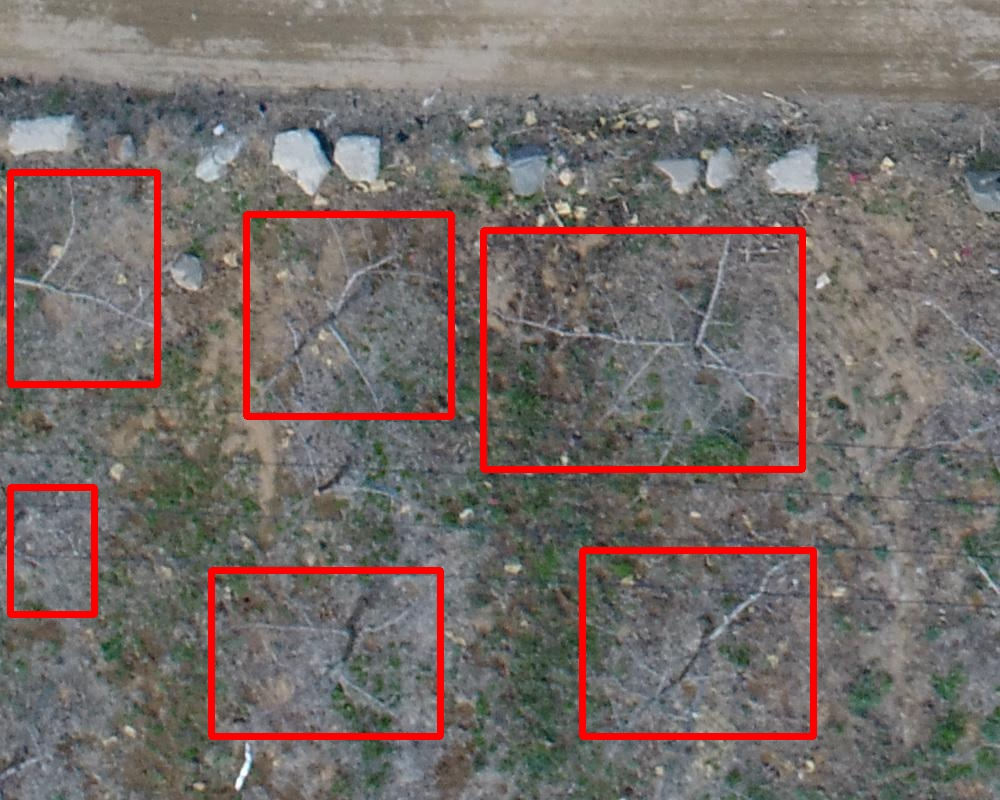apple: (483, 230, 802, 469), (582, 550, 813, 736), (246, 214, 451, 416), (211, 570, 440, 736), (10, 172, 157, 384), (10, 487, 94, 614)
